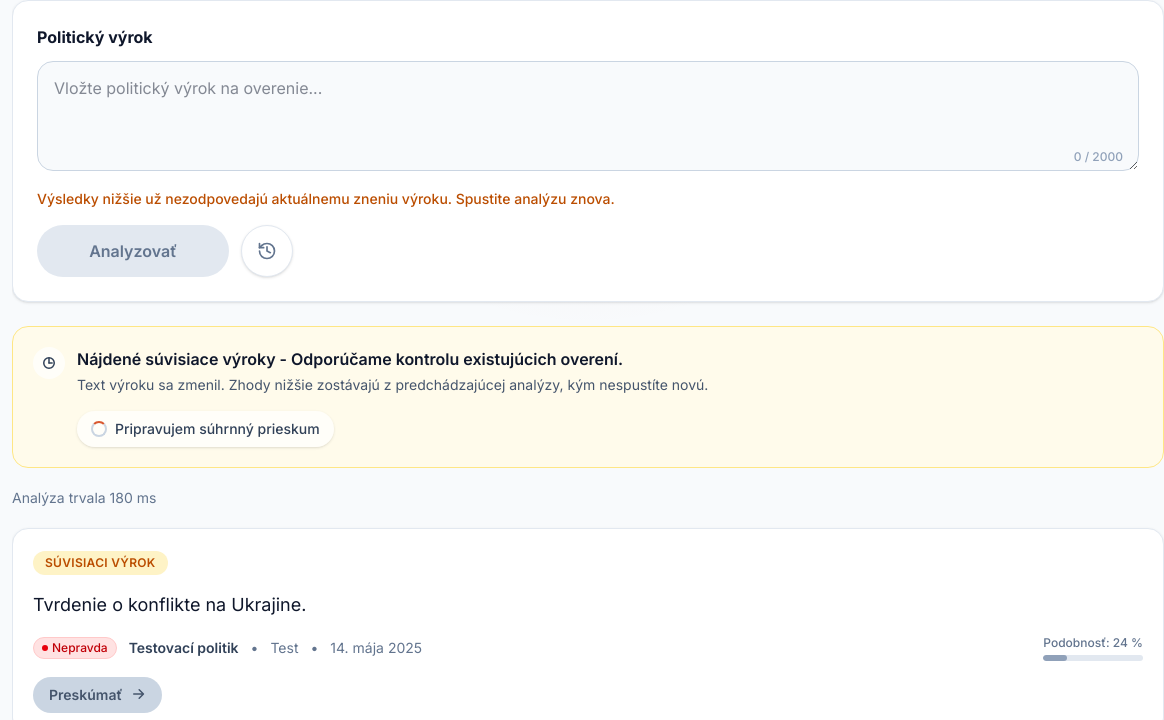
Test: detect page flow › keeps detect loading visible while aggregate preparation is in progress
Type "Ukrajina je Rusko." into the text box labelled "Politický výrok" at coordinates (588, 116), box x1=37 y1=61 x2=1139 y2=171
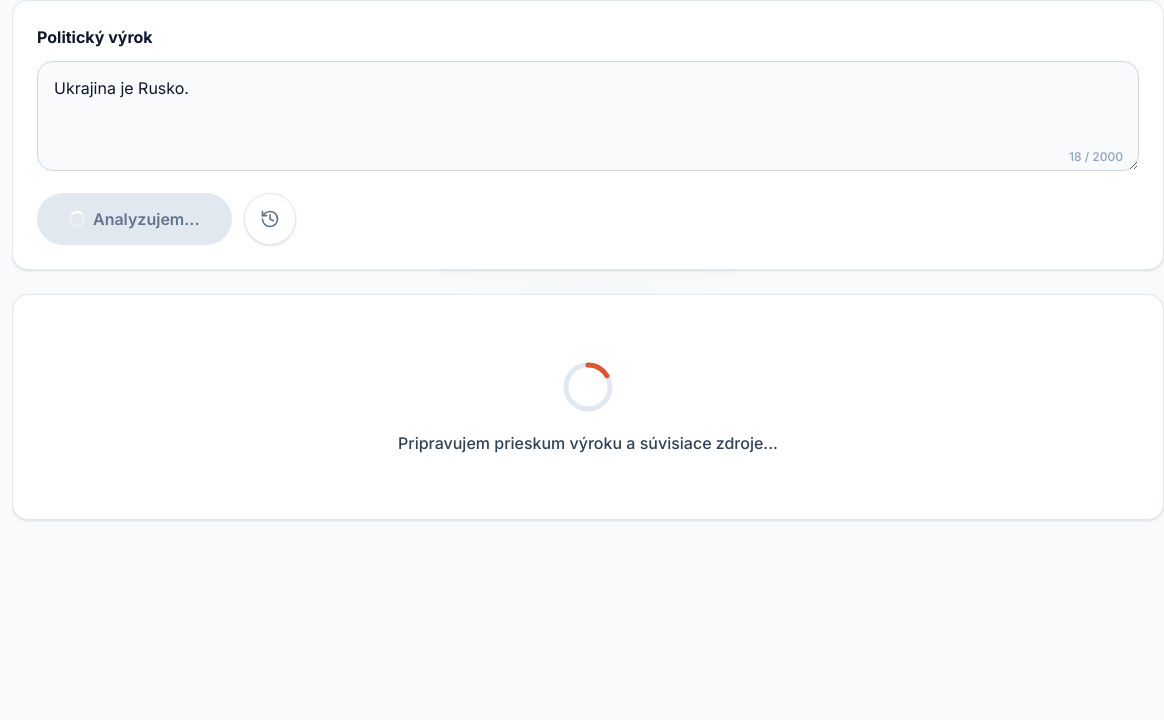
expect the message named "Detekcia prebieha" is shown: met, box x1=560 y1=359 x2=616 y2=415
expect the text "Pripravujem prieskum výroku a súvisiace zdroje..." is shown: met, box x1=398 y1=431 x2=778 y2=455
expect the heading "Nájdené súvisiace výroky" is gone: met
